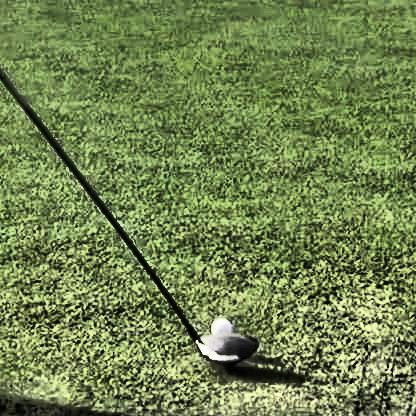golfball: (207, 314, 229, 337)
